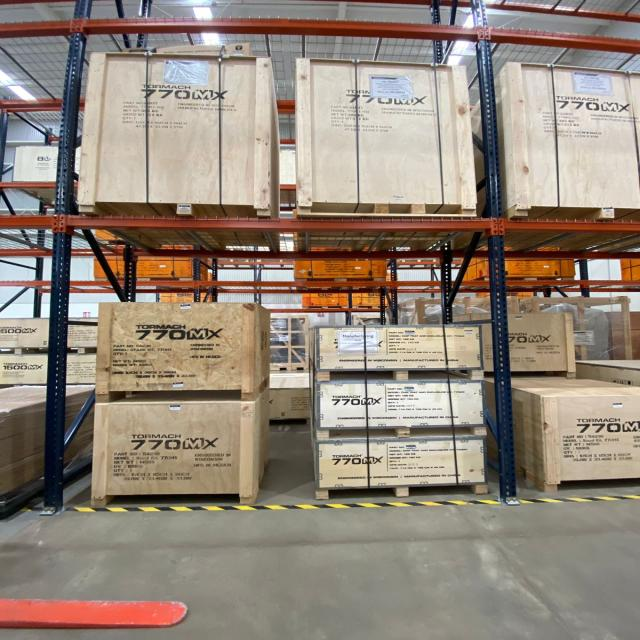770b: (78, 52, 279, 221), (295, 58, 476, 216), (495, 62, 639, 217)
encl770: (310, 370, 484, 430), (315, 432, 485, 490), (311, 325, 446, 370), (444, 325, 483, 370)
stnd770: (92, 390, 268, 504), (95, 302, 269, 396), (513, 378, 639, 490), (509, 313, 574, 374), (482, 323, 492, 371)
